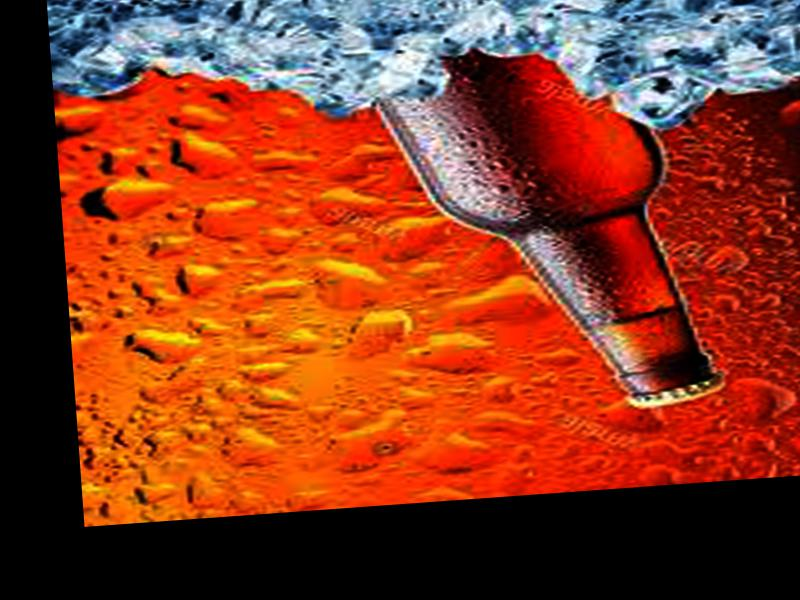Beer: (376, 29, 743, 425)
